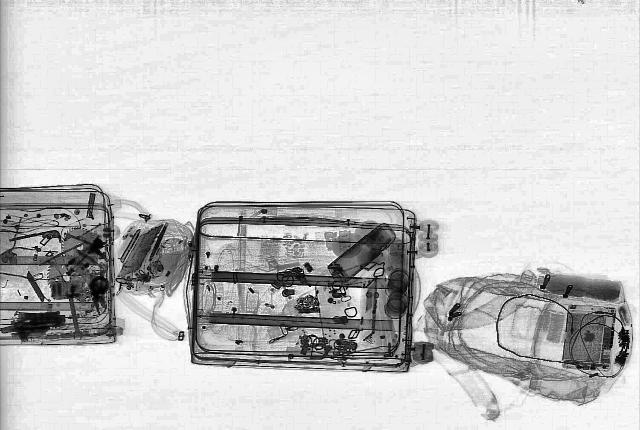Wrench: (61, 290, 85, 340)
